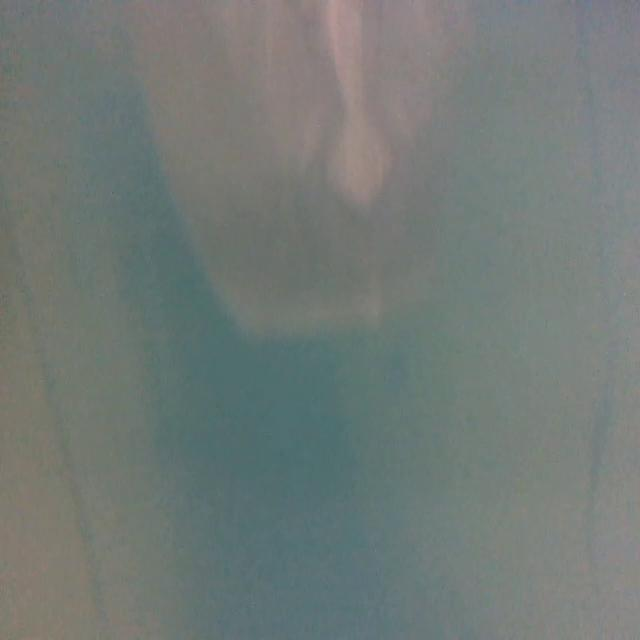plastic bags: (160, 1, 462, 339)
